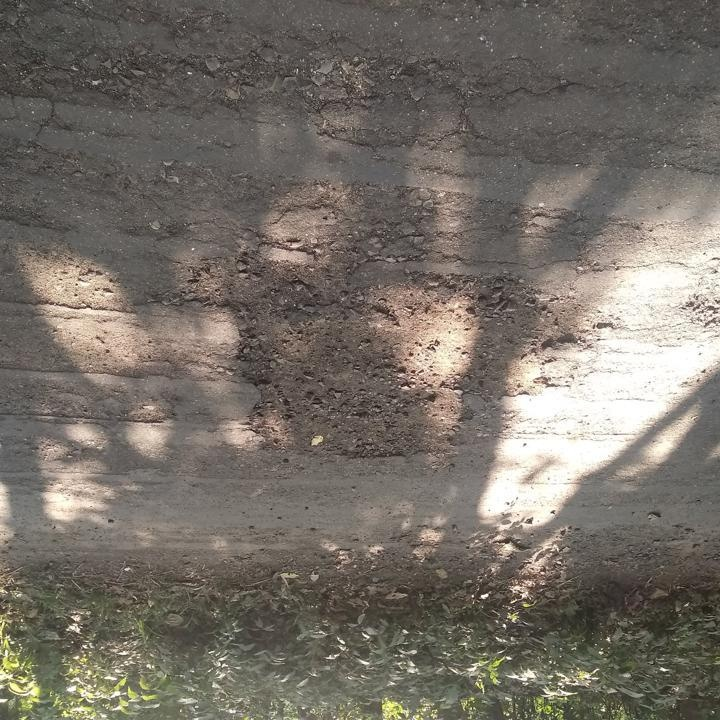pothole: (213, 238, 596, 463)
